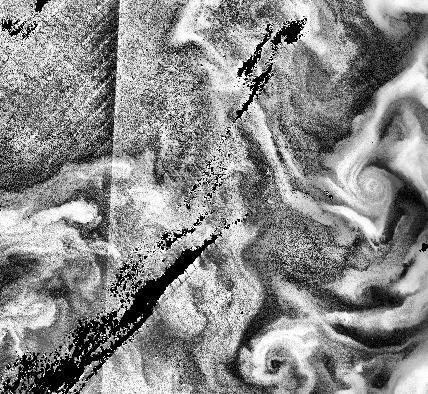CE: (345, 161, 396, 219), (252, 333, 305, 383)
